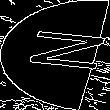N_E: (6, 31, 104, 79)
